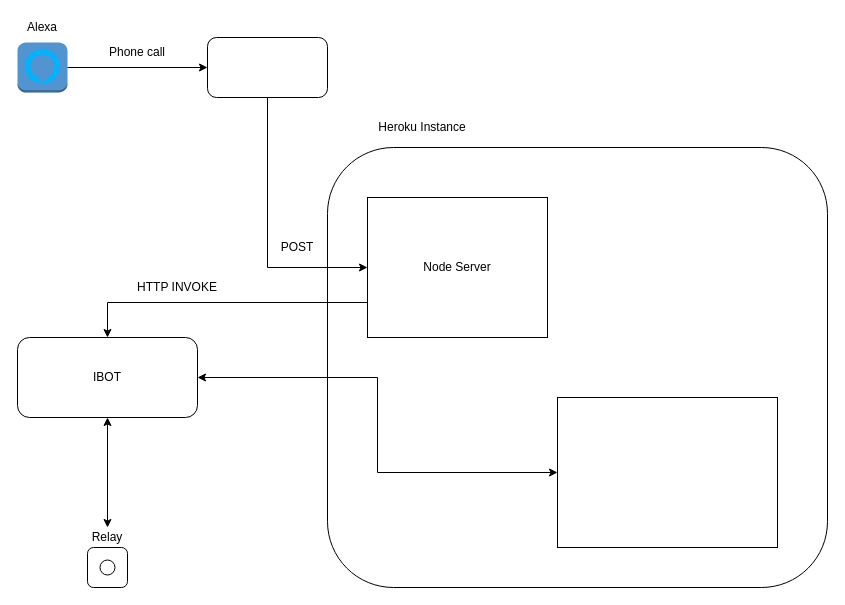
Image size: 845x605. Some labels were removed from this diagram. Here are the shapes that lost their labels. From the top down, the box of each, then its label:
(206, 36, 328, 98): Twilio
(556, 396, 778, 548): Workflow
